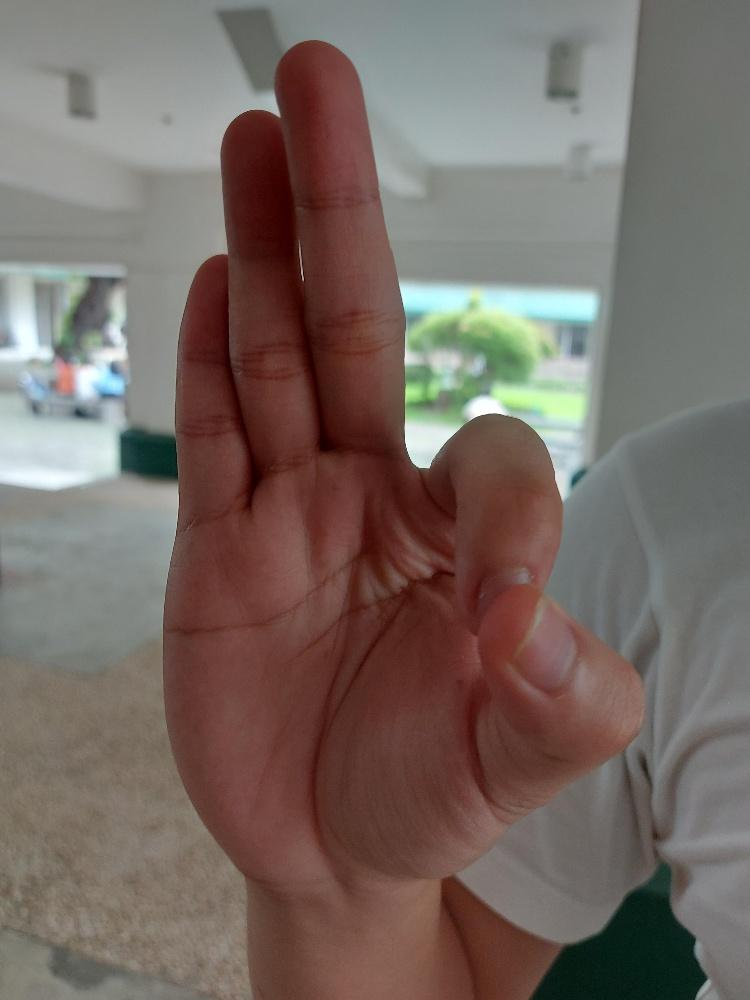f: (157, 33, 650, 881)
